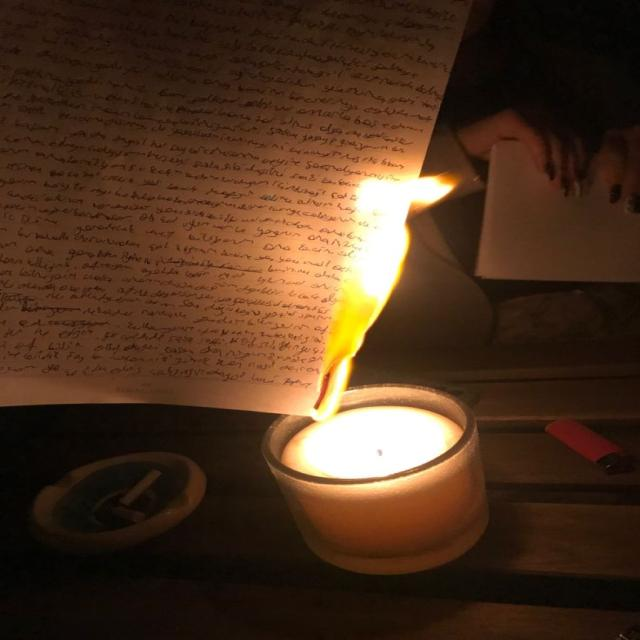fire: (309, 175, 454, 424)
